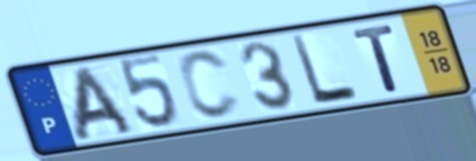3: (238, 39, 297, 115)
5: (114, 51, 182, 133)
A: (72, 63, 139, 144)
C: (175, 47, 245, 122)
L: (287, 32, 363, 108)
T: (349, 21, 403, 95)
